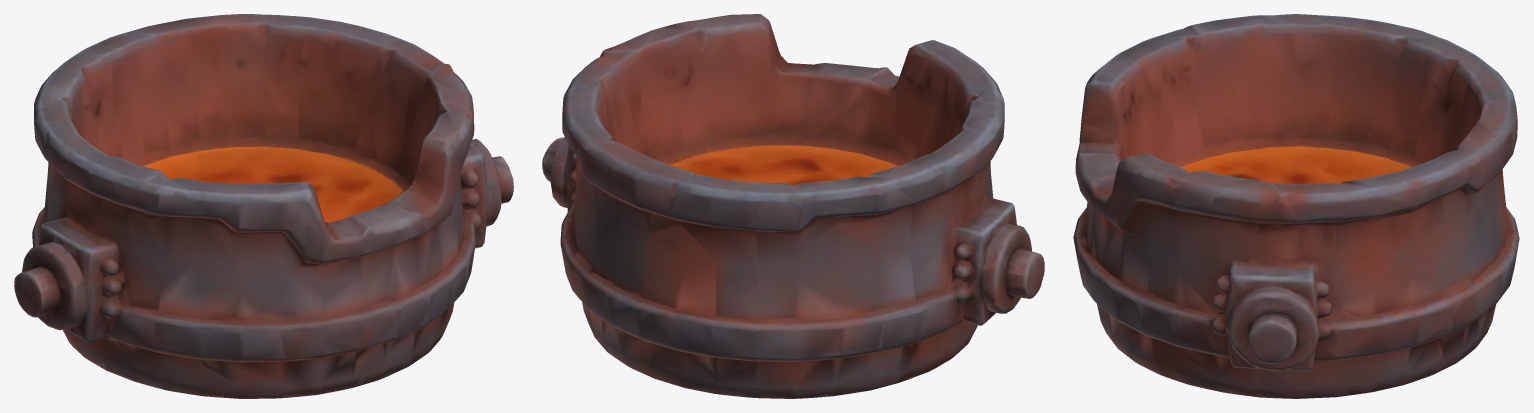
The model's file is olla_cobre.movil.glb.
3 renders of one model, left to right at view 1: azimuth 30°, elevation 25°; view 2: azimuth 150°, elevation 25°; view 3: azimuth 270°, elevation 25°, orthographic.
Parts seen in each view (by area): view 1: geometry_0; view 2: geometry_0; view 3: geometry_0.
Boxes of the visible parts, bbox=[...] form: geometry_0: bbox=[14, 14, 513, 398]; geometry_0: bbox=[542, 14, 1044, 398]; geometry_0: bbox=[1073, 14, 1519, 398].
Bounding box in the file's own units: 1 × 0.4438 × 0.8042.
Materials: 1 (1 with a texture image).
